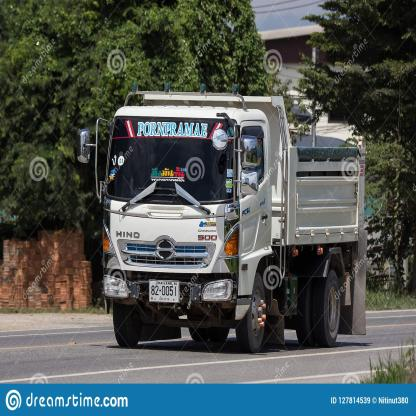dump_truck: (83, 83, 371, 361)
